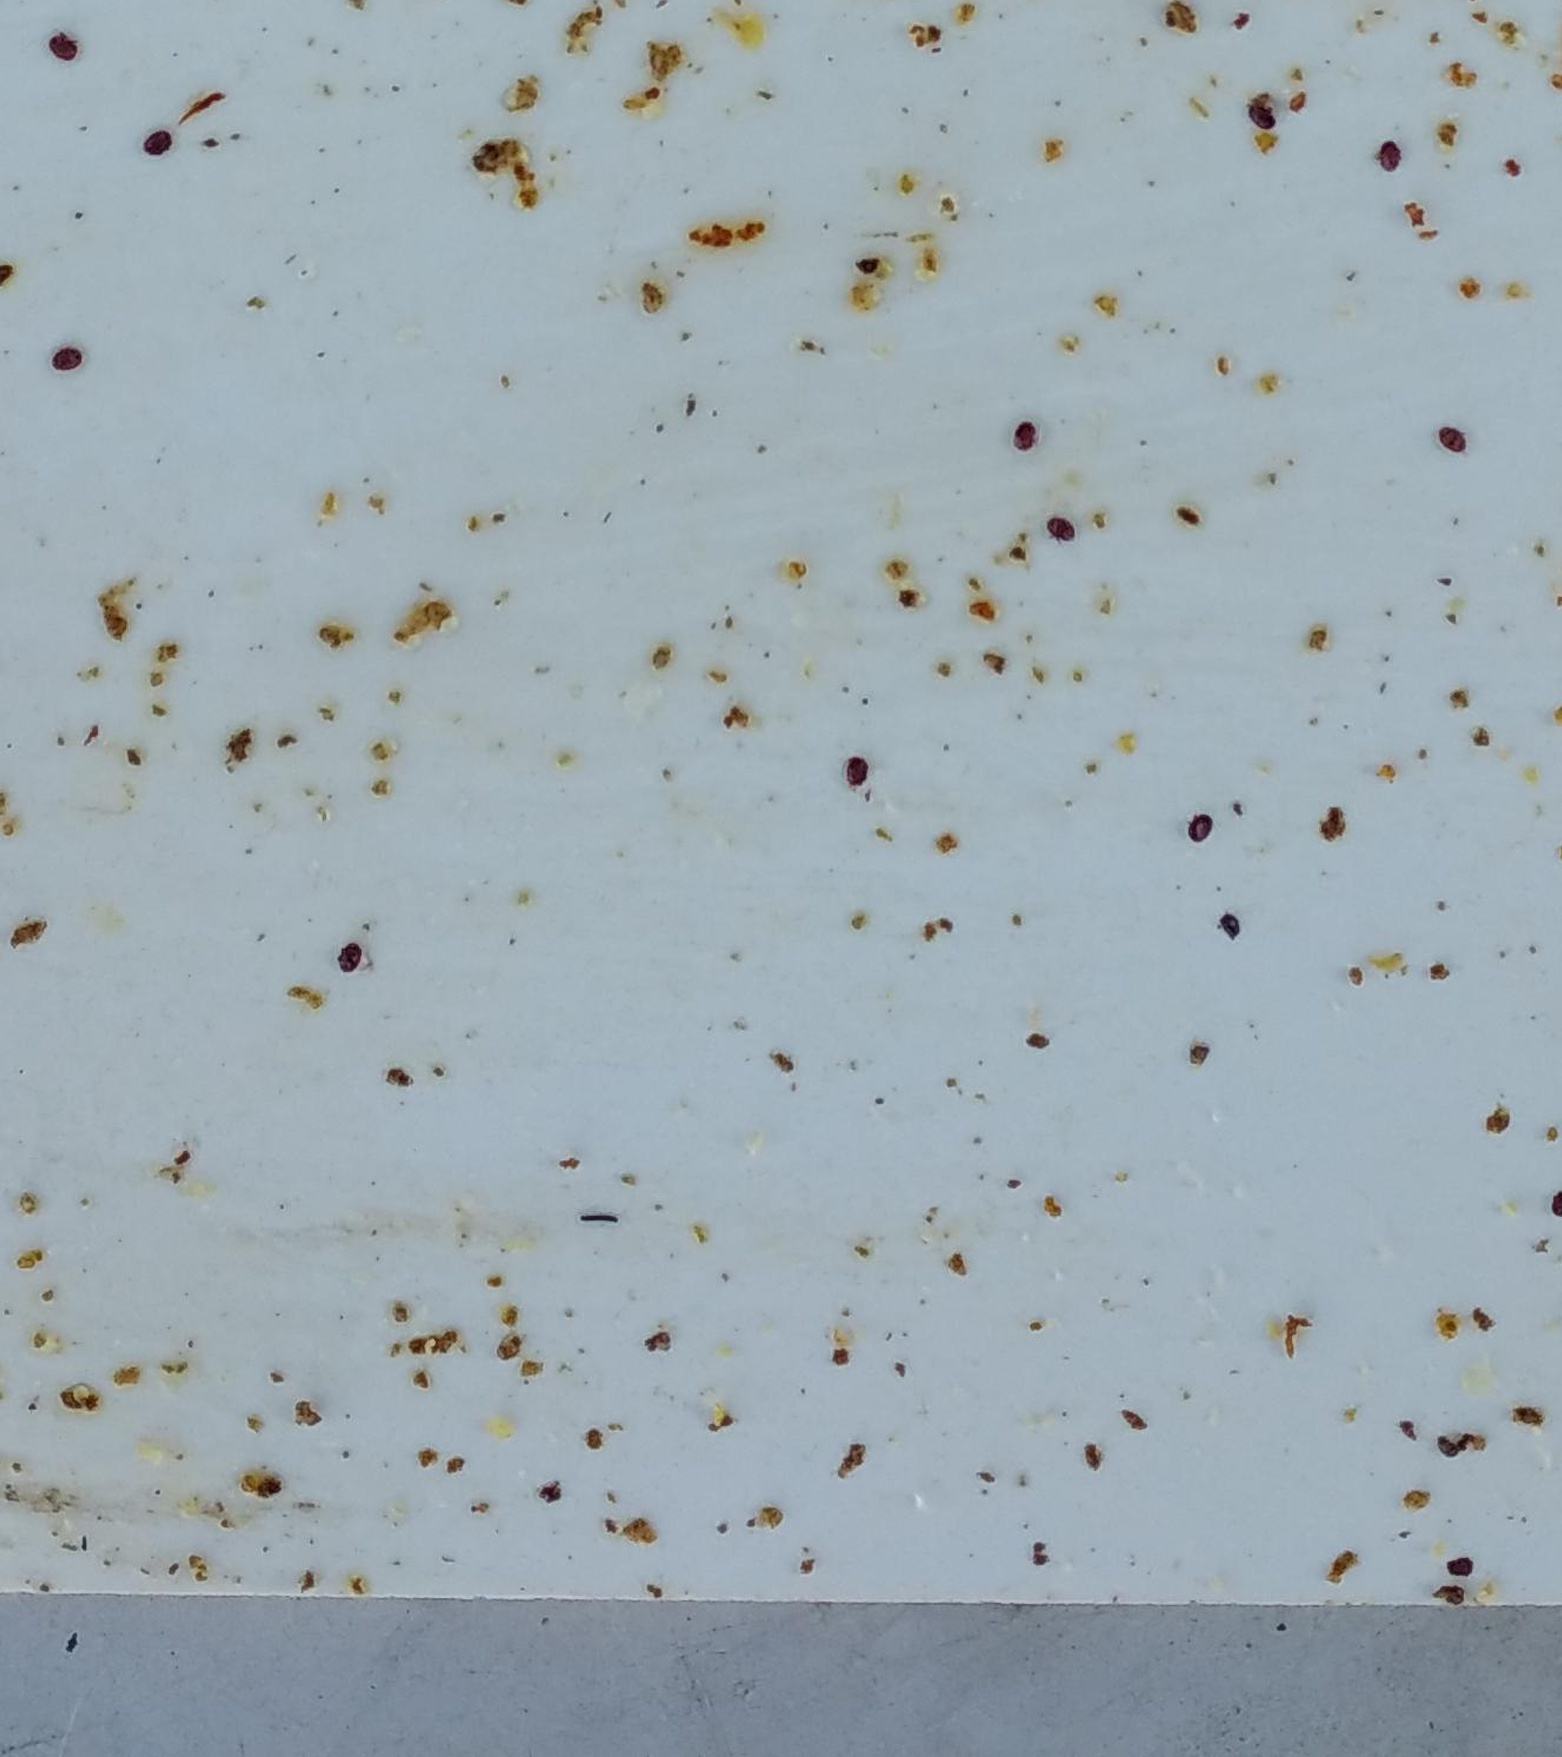Varroa: (1182, 813, 1215, 846), (1374, 143, 1404, 176), (1435, 422, 1467, 452), (1013, 422, 1043, 454), (1046, 514, 1077, 544), (51, 345, 81, 376), (841, 754, 870, 784), (1247, 100, 1276, 128), (335, 946, 363, 974), (142, 127, 169, 154), (51, 38, 75, 63)
